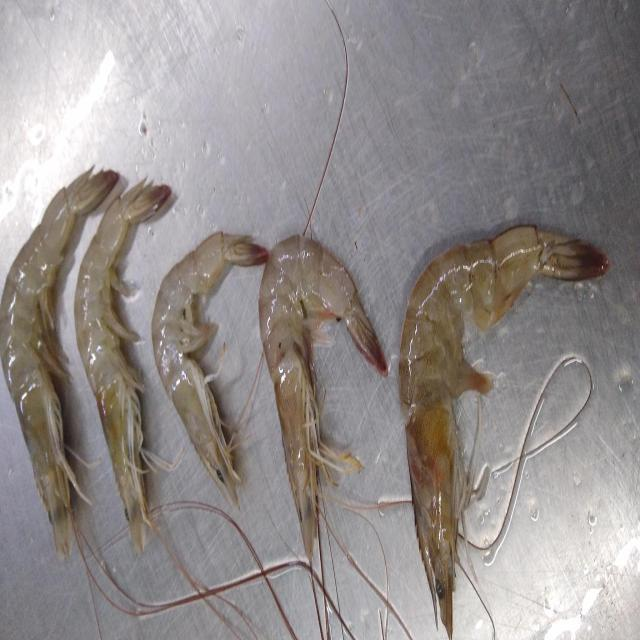shrimp: (399, 227, 610, 638), (0, 169, 119, 558), (259, 236, 388, 558), (74, 180, 171, 551), (151, 231, 269, 504)
